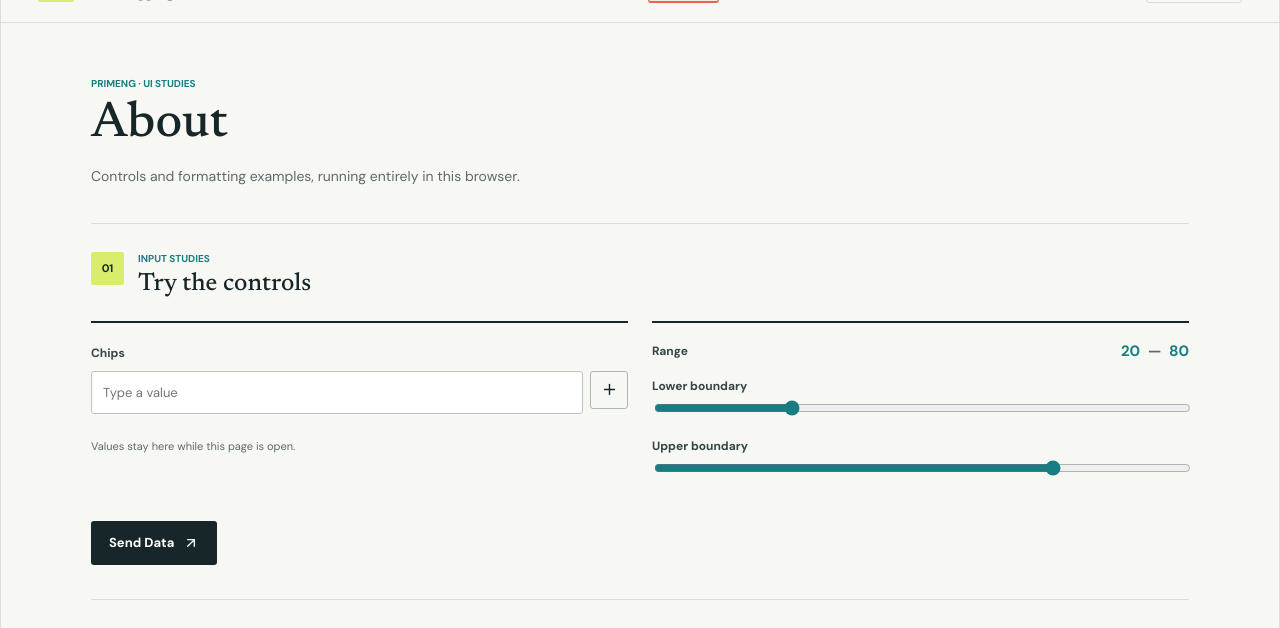
Test: application routes and shared flows › keeps About controls local and displays the selected values
This screenshot has width=1280, height=628.
Type "sample" into the field labelled "Chips" at (337, 392), box [91,371,583,414]
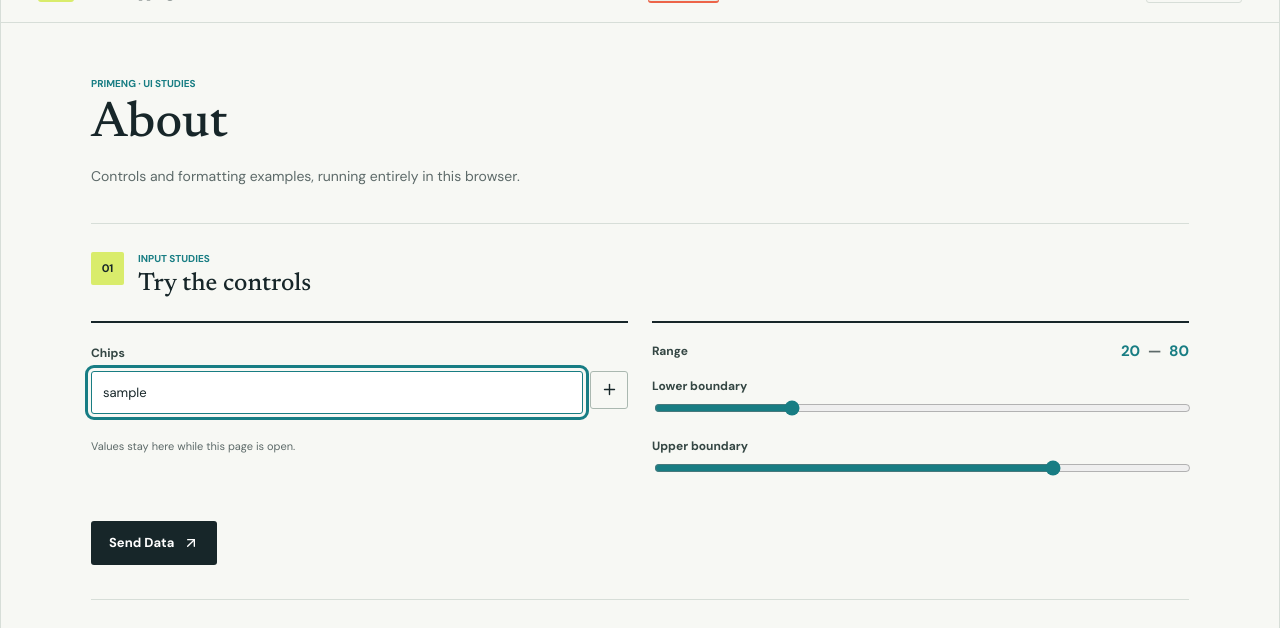
Press Enter
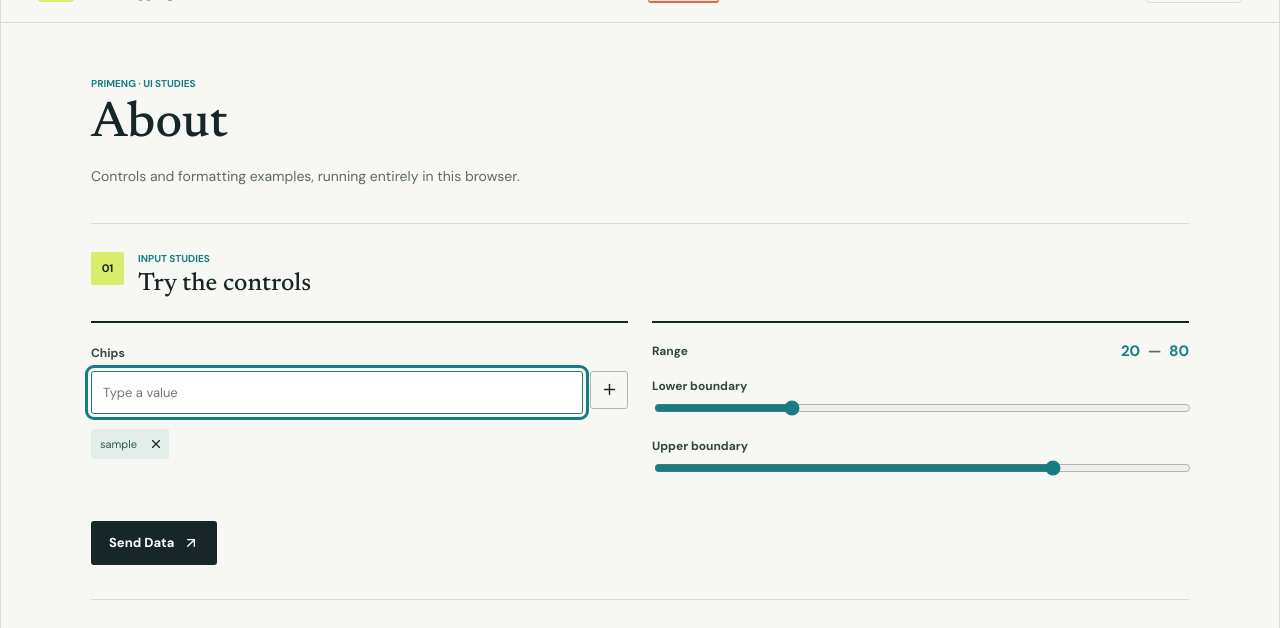
Set the slider named "Lower boundary" to "35" at (890, 408), box [654,400,1191,416]
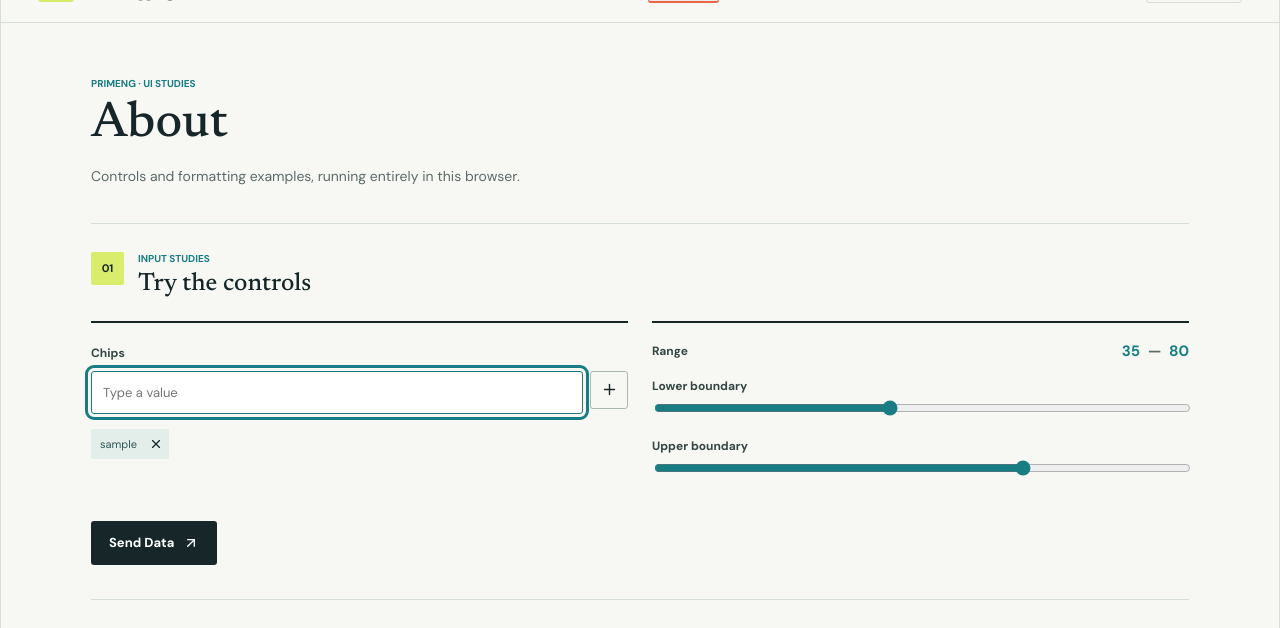
Click the button "Send Data" at (154, 543), box [91,521,217,565]
(page scrolled)
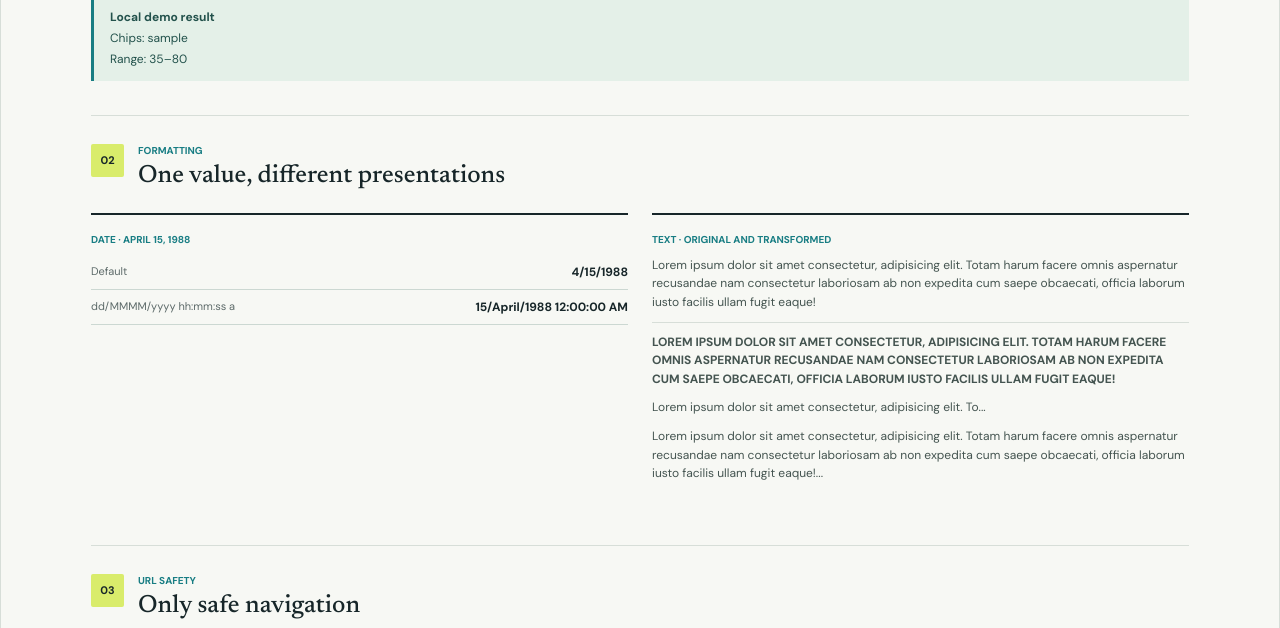
Expected: the text "15/April/1988 12:00:00 AM" is shown, [476,299,628,315]
Result: the text "Chips: sample" is shown at [110,30,188,46]
Result: the text "Range: 35–80" is shown at [110,51,187,67]
